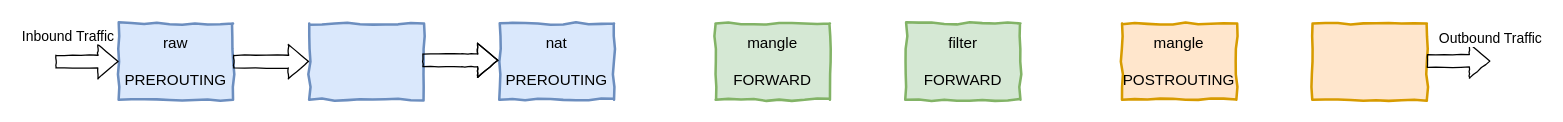
This 1563x122 diagram has some shape labels left out. The centre of each missing label's shape, as x and y in pixels:
"mangle PREROUTING" goes at (x=365, y=61).
"nat POSTROUTING" goes at (x=1369, y=61).
